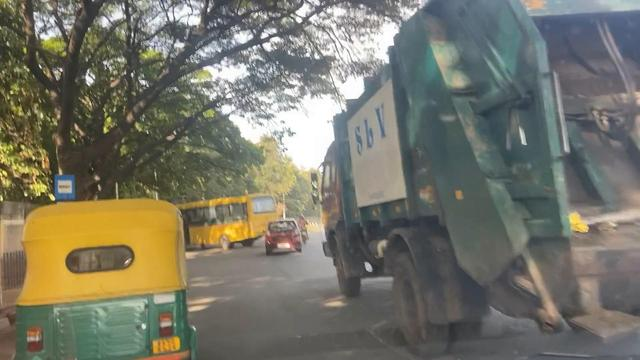HMV: (315, 0, 640, 360)
LMV: (21, 198, 190, 360)
